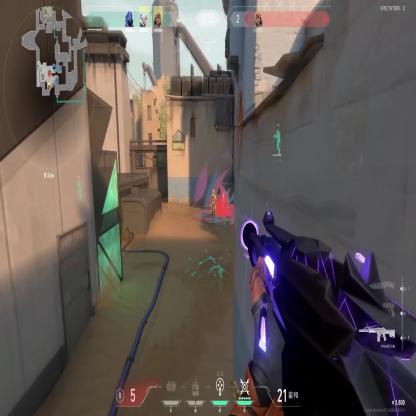enemy: (210, 188, 216, 221)
enemy_head: (212, 189, 215, 195)
